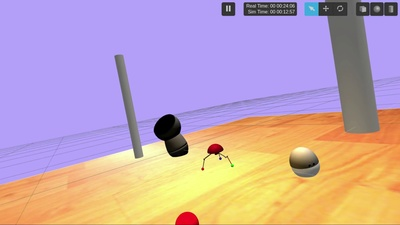mira_robot: (290, 147, 320, 177)
